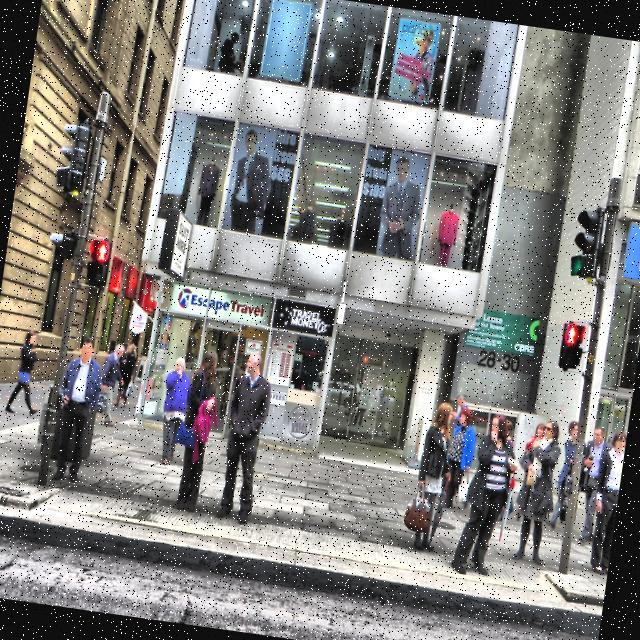red_light: (96, 241, 108, 263), (566, 326, 578, 346)
